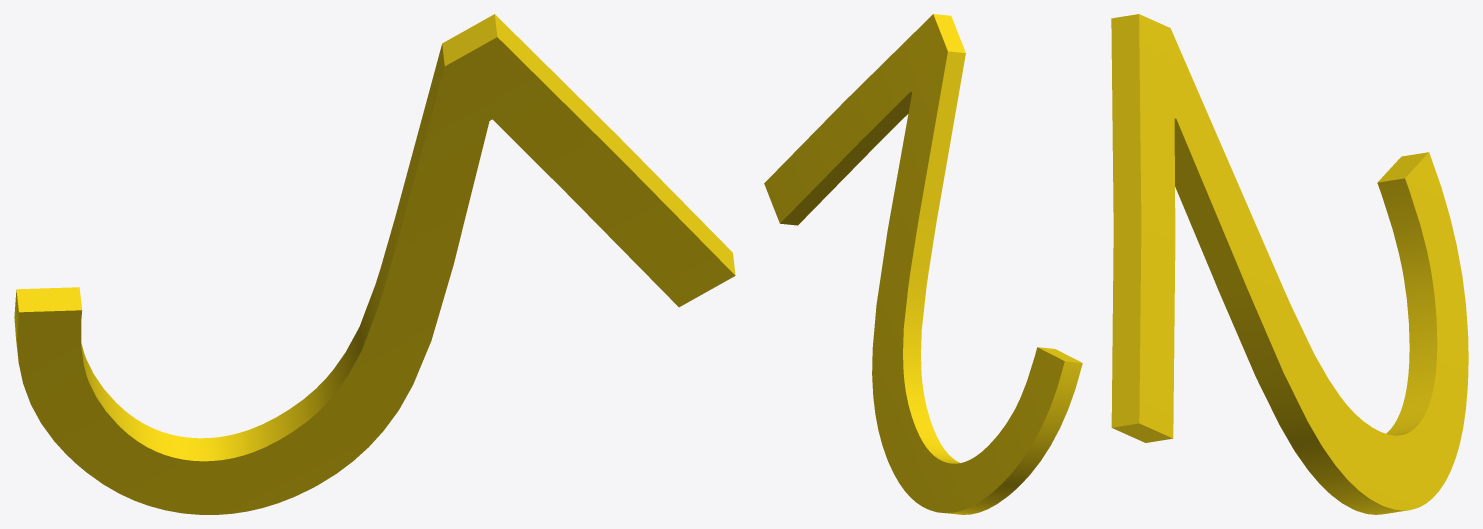
Rendered from Number_2.gltf.
3 views of the same model, side by side, from view 1: azimuth 30°, elevation 25°; view 2: azimuth 150°, elevation 25°; view 3: azimuth 270°, elevation 25° (orthographic). The views are drawn at different scales.
Parts seen in each view (by area): view 1: Sub_7_Cell_1_1_Number_2; view 2: Sub_7_Cell_1_1_Number_2; view 3: Sub_7_Cell_1_1_Number_2.
Part boxes in pixels (left/top/right/bottom): Sub_7_Cell_1_1_Number_2: left=14, top=14, right=735, bottom=514; Sub_7_Cell_1_1_Number_2: left=764, top=14, right=1082, bottom=514; Sub_7_Cell_1_1_Number_2: left=1111, top=14, right=1468, bottom=514.
Size of the model in its own units: 0.026 by 0.0241 by 0.0139.
